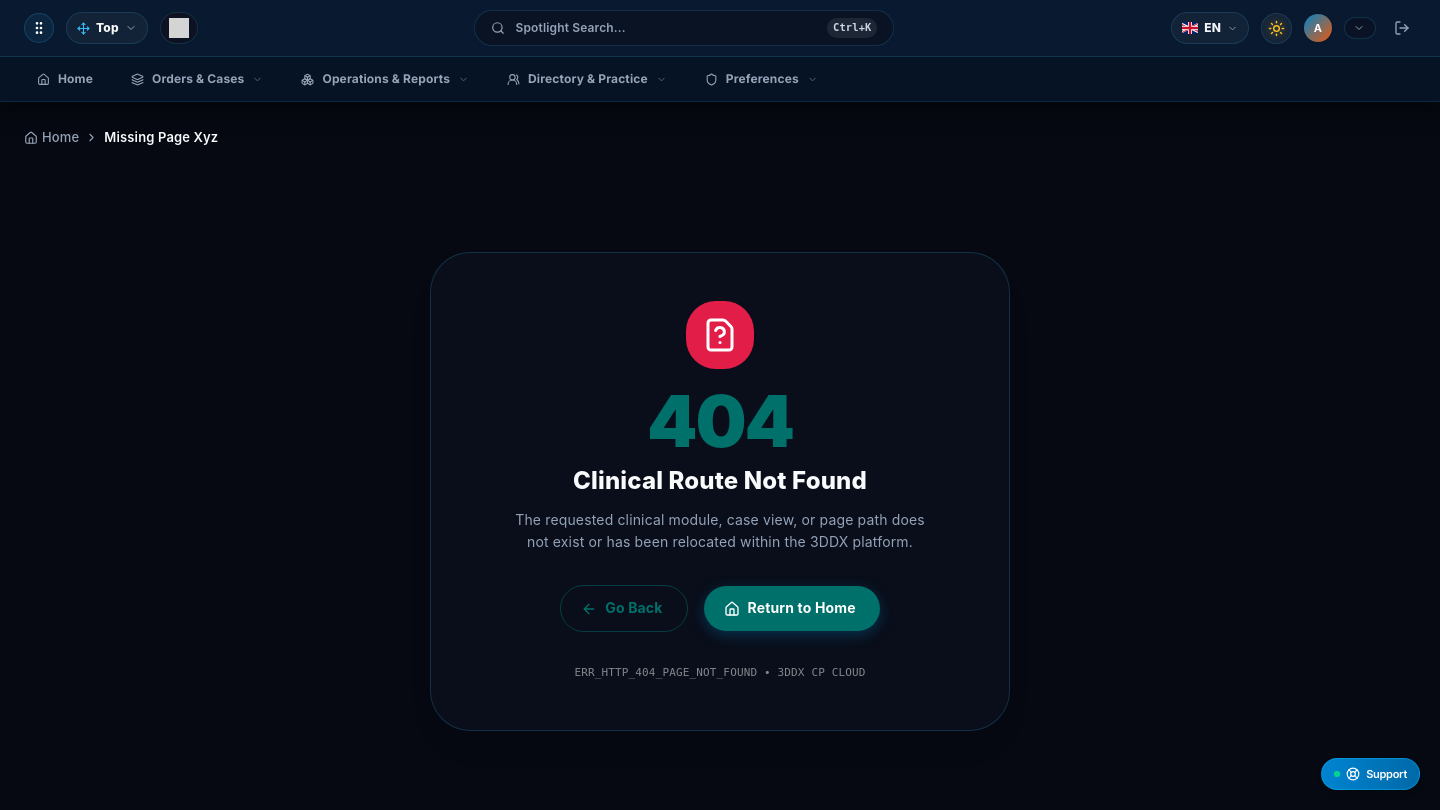
it: UIUX-REQ-021: Dedicated Frontend 404 & 503 Maintenance Views › 404 Not Found Page › provides accessible Return to Home and Go Back navigation actions
Expected: the element with test id "not-found-page" is shown, x1=430 y1=252 x2=1010 y2=731
Expected: the button "Go Back" is shown, x1=560 y1=585 x2=688 y2=632
// Click dashboard button to navigate
Click the button "Return to Home".
click(792, 609)  # box x1=704 y1=586 x2=880 y2=631
(page scrolled)
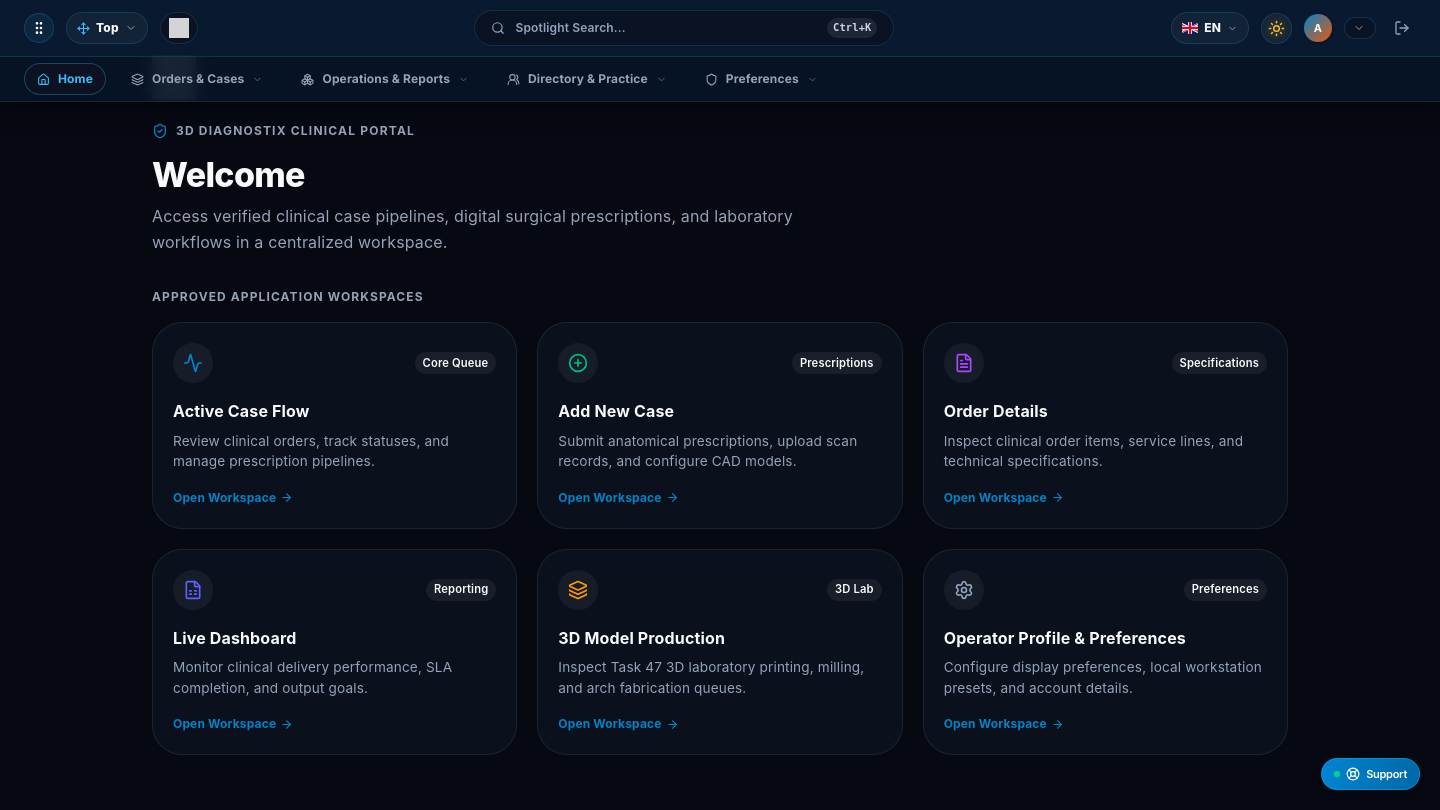
Now the element with test id "not-found-page" is gone
Now the element with test id "home-page" is shown
